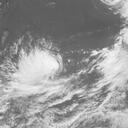cyclone: (9, 46, 68, 99)
